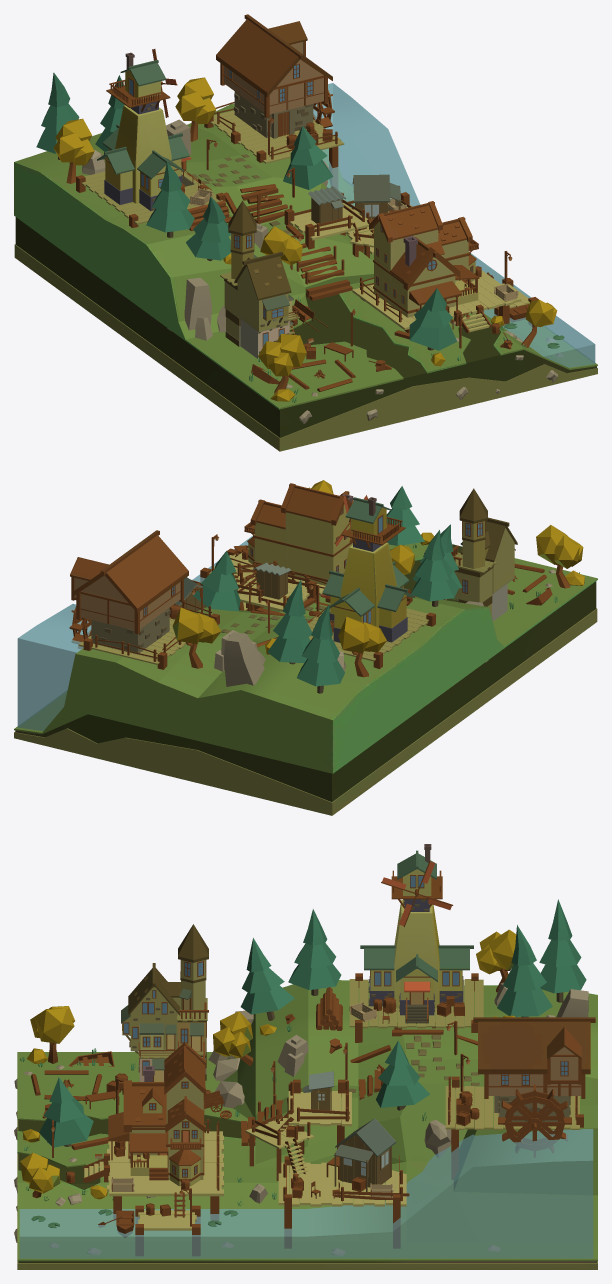
The model's file is environment.glb.
3 views of the same model, one above another, from view 1: azimuth 30°, elevation 25°; view 2: azimuth 150°, elevation 25°; view 3: azimuth 270°, elevation 25° (orthographic). The views are drawn at different scales.
Parts seen in each view (by area): view 1: Soil, Tree_2, B_House_1, B_House_5, Water, B_House_4, Tree_1, B_House_3, Wood, Rock, Wood_floor_1, Wood_floor_3 (+12 smaller); view 2: Soil, Tree_2, B_House_5, B_House_1, B_House_4, Water, Tree_1, B_House_3, Rock, Wood_floor_3, Wood_floor_2, Wood_floor_4 (+8 smaller); view 3: Soil, Water, Tree_2, B_House_1, B_House_5, Wood_floor_2, B_House_4, Wood_floor_1, Tree_1, B_House_3, Rock, Wood (+19 smaller).
Boxes of the visible parts, bbox=[...] form: Soil: bbox=[14, 103, 597, 451]; Tree_2: bbox=[36, 72, 456, 350]; B_House_1: bbox=[369, 201, 479, 317]; B_House_5: bbox=[216, 14, 332, 138]; Water: bbox=[313, 83, 595, 367]; B_House_4: bbox=[97, 52, 194, 210]; Tree_1: bbox=[53, 77, 557, 393]; B_House_3: bbox=[224, 200, 292, 358]; Wood: bbox=[181, 161, 409, 391]; Rock: bbox=[82, 119, 563, 423]; Wood_floor_1: bbox=[352, 266, 538, 333]; Wood_floor_3: bbox=[204, 101, 344, 188]; Soil: bbox=[14, 542, 597, 815]; Tree_2: bbox=[192, 486, 462, 693]; B_House_5: bbox=[70, 530, 188, 654]; B_House_1: bbox=[244, 483, 353, 585]; B_House_4: bbox=[322, 497, 414, 642]; Water: bbox=[17, 535, 252, 730]; Tree_1: bbox=[172, 480, 583, 677]; B_House_3: bbox=[454, 488, 517, 621]; Rock: bbox=[214, 570, 555, 686]; Wood_floor_3: bbox=[78, 599, 219, 669]; Wood_floor_2: bbox=[192, 560, 316, 611]; Wood_floor_4: bbox=[307, 608, 436, 668]; Soil: bbox=[17, 980, 597, 1269]; Water: bbox=[19, 1129, 593, 1258]; Tree_2: bbox=[39, 899, 586, 1147]; B_House_1: bbox=[108, 1042, 205, 1186]; B_House_5: bbox=[473, 1017, 595, 1121]; Wood_floor_2: bbox=[245, 1079, 409, 1248]; B_House_4: bbox=[360, 844, 473, 1023]; Wood_floor_1: bbox=[83, 1119, 223, 1255]; Tree_1: bbox=[20, 929, 516, 1198]; B_House_3: bbox=[122, 924, 208, 1081]; Rock: bbox=[14, 982, 588, 1255]; Wood: bbox=[31, 987, 477, 1150].
Size of the model in its own units: 4.7 by 3.49 by 6.72.
38 materials, 38 textured.
